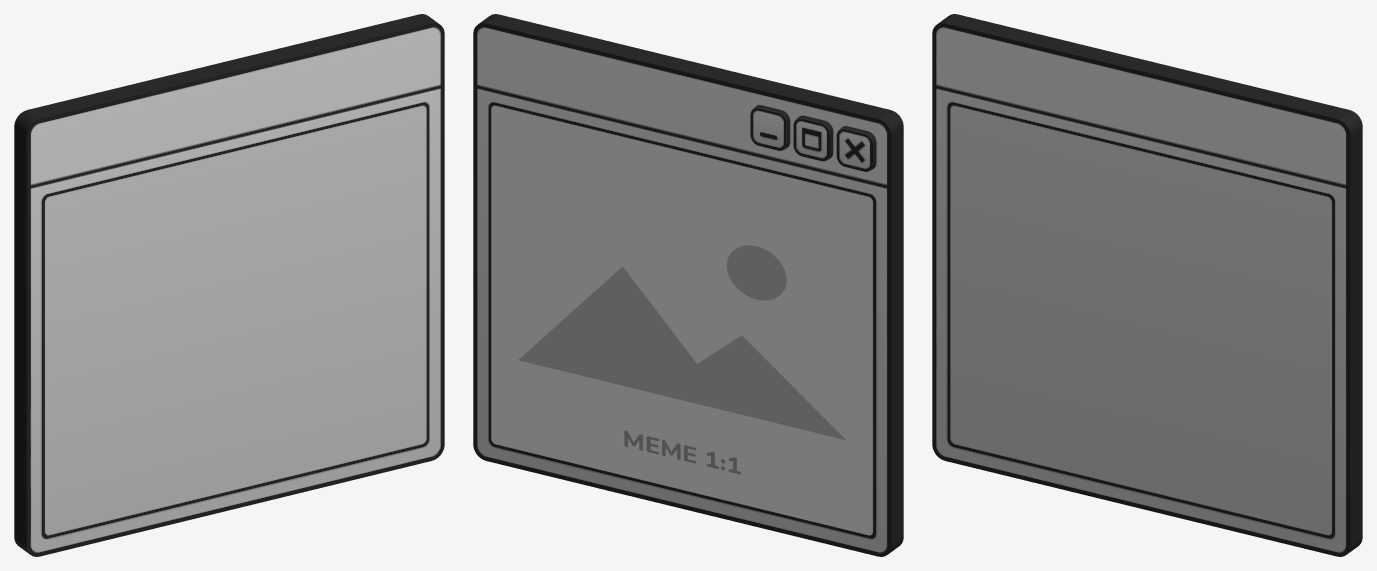
The model's file is MemeWindowSquare.fbx.
The picture shows the model from 3 angles, left to right: view 1: azimuth 30°, elevation 25°; view 2: azimuth 150°, elevation 25°; view 3: azimuth 330°, elevation 25°; orthographic projection.
Visible parts, largest first — view 1: MemeWindowSquare; view 2: MemeWindowSquare; view 3: MemeWindowSquare.
Part boxes in pixels (bbox=[...]): MemeWindowSquare: bbox=[14, 14, 444, 556]; MemeWindowSquare: bbox=[473, 14, 903, 556]; MemeWindowSquare: bbox=[932, 14, 1362, 556].
Bounding box in the file's own units: 1 × 1 × 0.0644.
2 materials, 2 textured.
